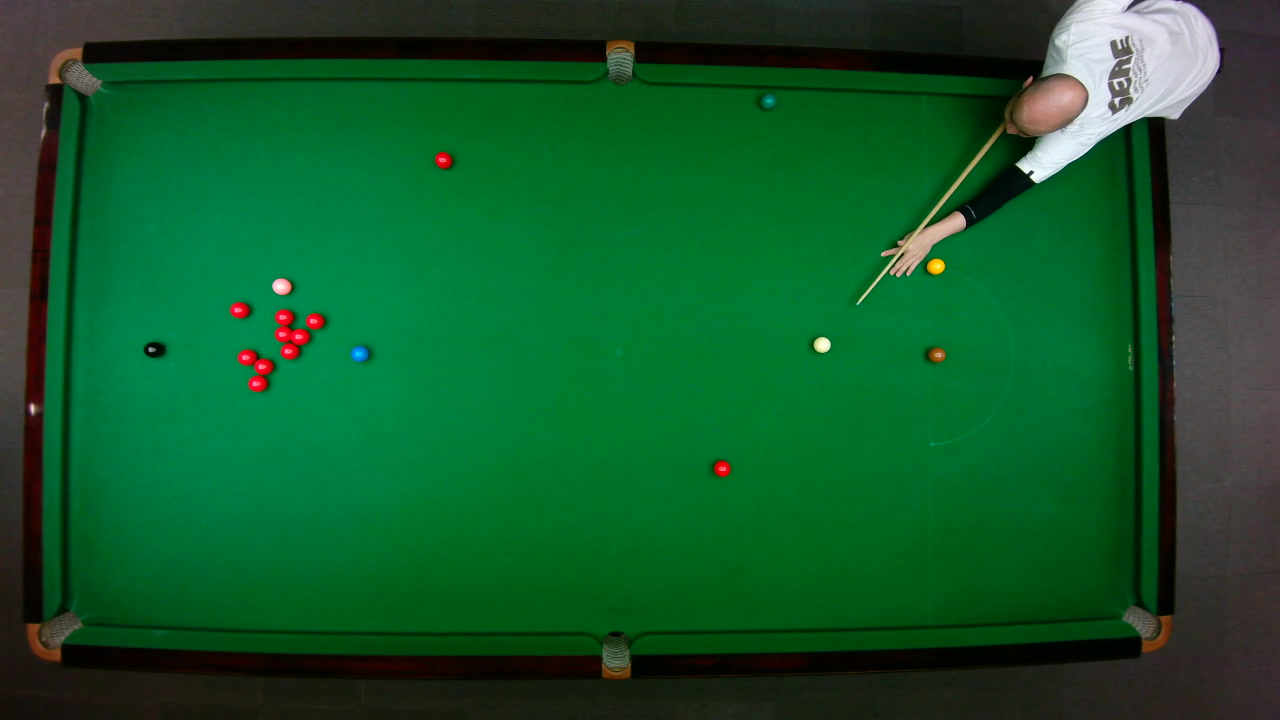bag: (25, 609, 83, 661), (45, 46, 102, 96), (1119, 603, 1172, 652), (601, 629, 629, 680), (605, 38, 634, 85)
black: (142, 340, 163, 357)
blue: (350, 344, 369, 362)
brown: (926, 346, 946, 362)
cue: (853, 120, 1012, 307)
green: (759, 92, 776, 110)
pink: (270, 276, 292, 295)
red: (287, 326, 310, 345), (235, 347, 257, 366), (252, 356, 274, 375), (246, 374, 268, 392), (228, 300, 250, 318), (433, 150, 453, 169), (303, 311, 324, 329), (273, 307, 294, 325), (712, 459, 731, 477), (279, 342, 299, 359), (273, 325, 292, 342)
white: (811, 335, 831, 353)
yellow: (925, 257, 945, 274)
zone: (926, 265, 1013, 445)
